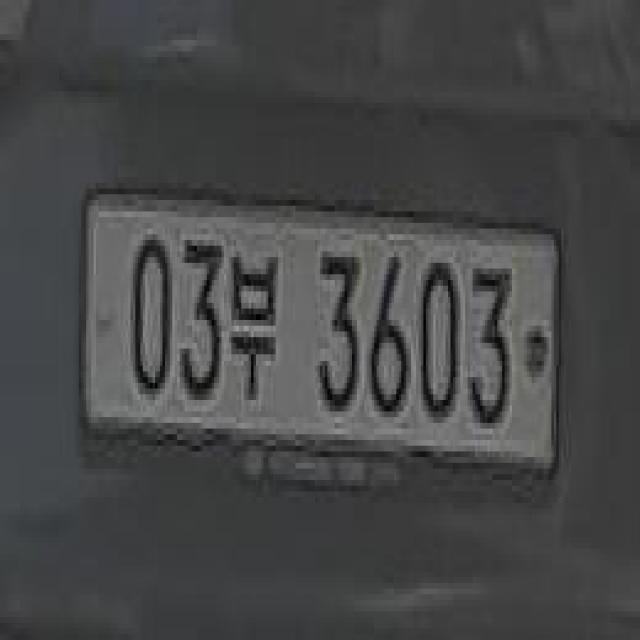illegal_plate: (84, 175, 560, 498)
